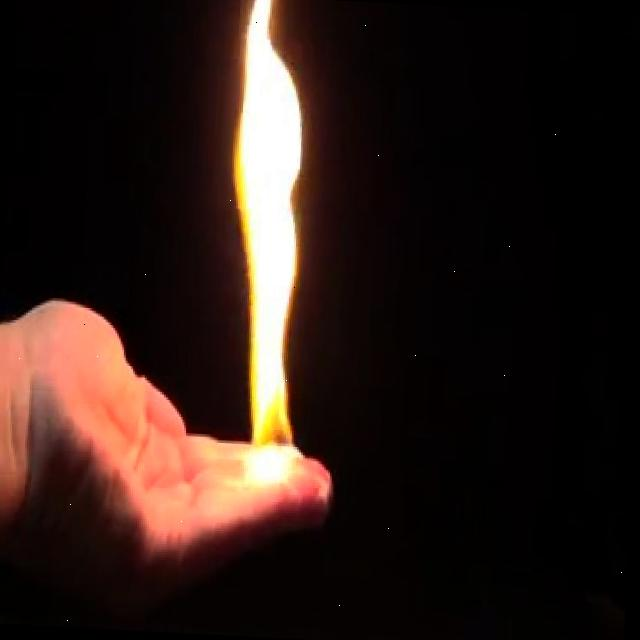fire: (203, 43, 317, 511)
